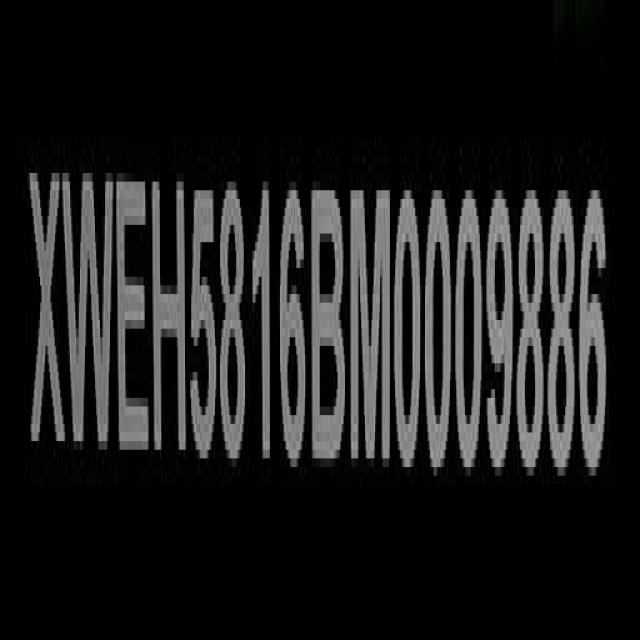0: (454, 190, 483, 473), (396, 185, 424, 472), (425, 191, 453, 475)
1: (254, 186, 275, 472)
5: (190, 180, 220, 466)
6: (279, 182, 308, 471), (579, 192, 606, 471)
8: (218, 183, 248, 468), (517, 192, 547, 472), (550, 190, 578, 472)
9: (486, 191, 514, 475)
B: (312, 182, 347, 471)
E: (118, 171, 150, 464)
H: (154, 176, 187, 465)
M: (349, 180, 392, 472)
W: (70, 174, 117, 462)
X: (31, 169, 68, 462)
